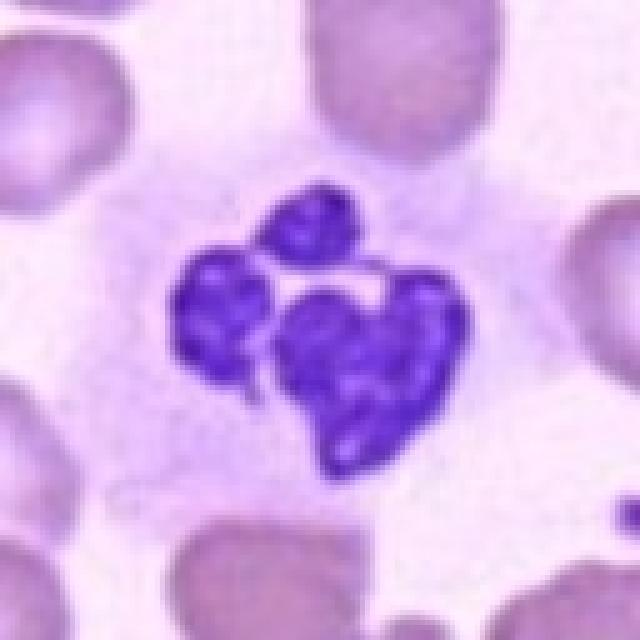neutro: (55, 96, 559, 565)
